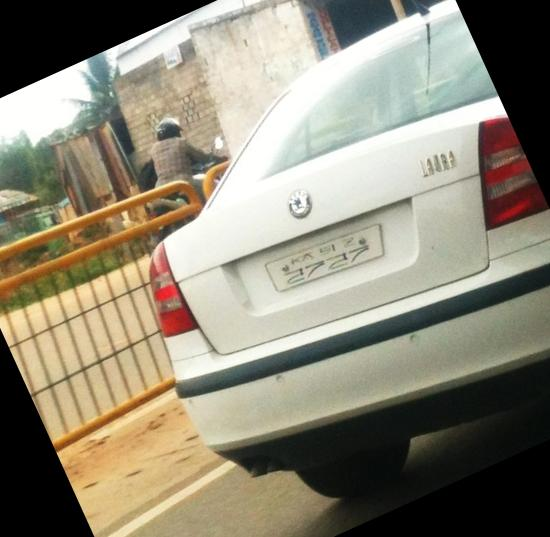plate: (259, 199, 406, 318)
